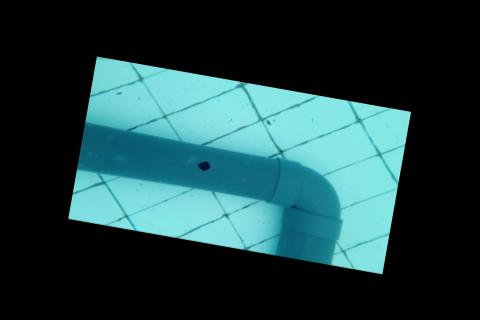kebocoran: (194, 158, 213, 173)
